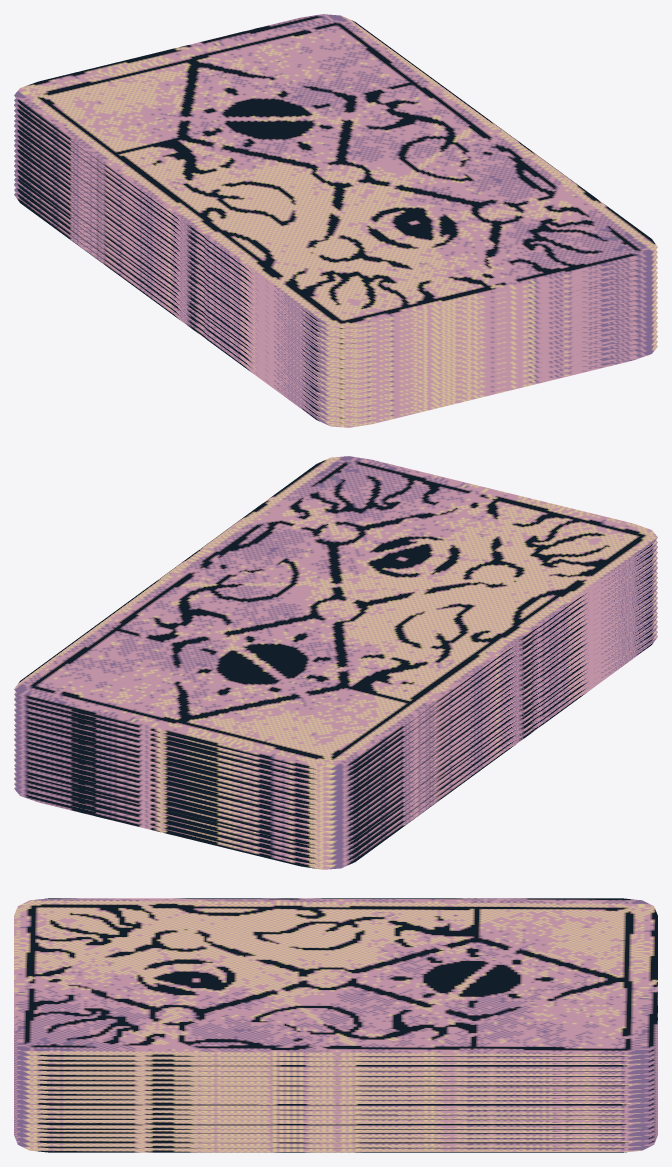
The model's file is deck.glb.
3 views of the same model, one above another, from view 1: azimuth 30°, elevation 25°; view 2: azimuth 150°, elevation 25°; view 3: azimuth 270°, elevation 25° (orthographic). The views are drawn at different scales.
Parts seen in each view (by area): view 1: card.023, card.018, card.008, card.024, card.010, card.021, card.014, card.019, card.004, card.016, card.011, card.001 (+14 smaller); view 2: card.023, card.018, card.008, card.024, card.010, card.021, card.014, card.019, card.004, card.016, card.011, card.007 (+14 smaller); view 3: card.023, card.018, card.008, card.001, card.014, card.016, card.019, card.024, card.004, card.011, card.021, card.007 (+14 smaller).
Part boxes in pixels (<box>): card.023: <box>14,14,657,328</box>; card.018: <box>14,114,657,349</box>; card.008: <box>14,154,657,389</box>; card.024: <box>14,98,657,333</box>; card.010: <box>14,169,657,404</box>; card.021: <box>14,108,657,343</box>; card.014: <box>14,139,657,373</box>; card.019: <box>14,119,657,354</box>; card.004: <box>14,178,657,412</box>; card.016: <box>14,129,657,364</box>; card.011: <box>14,149,657,383</box>; card.001: <box>14,188,657,423</box>; card.023: <box>14,456,657,770</box>; card.018: <box>14,556,657,791</box>; card.008: <box>14,596,657,831</box>; card.024: <box>14,540,657,775</box>; card.010: <box>14,611,657,846</box>; card.021: <box>14,550,657,785</box>; card.014: <box>14,581,657,815</box>; card.019: <box>14,561,657,796</box>; card.004: <box>14,620,657,854</box>; card.016: <box>14,571,657,806</box>; card.011: <box>14,591,657,825</box>; card.007: <box>14,601,657,836</box>; card.023: <box>14,898,657,1056</box>; card.018: <box>14,1054,657,1076</box>; card.008: <box>14,1093,657,1115</box>; card.001: <box>14,1126,657,1148</box>; card.014: <box>14,1079,657,1100</box>; card.016: <box>14,1069,657,1091</box>; card.019: <box>14,1060,657,1081</box>; card.024: <box>14,1040,657,1061</box>; card.004: <box>14,1117,657,1138</box>; card.011: <box>14,1089,657,1110</box>; card.021: <box>14,1050,657,1071</box>; card.007: <box>14,1098,657,1119</box>.
Size of what is drawn, in the model's own units: 44.93 by 12.69 by 77.22.
26 materials, 26 textured.
